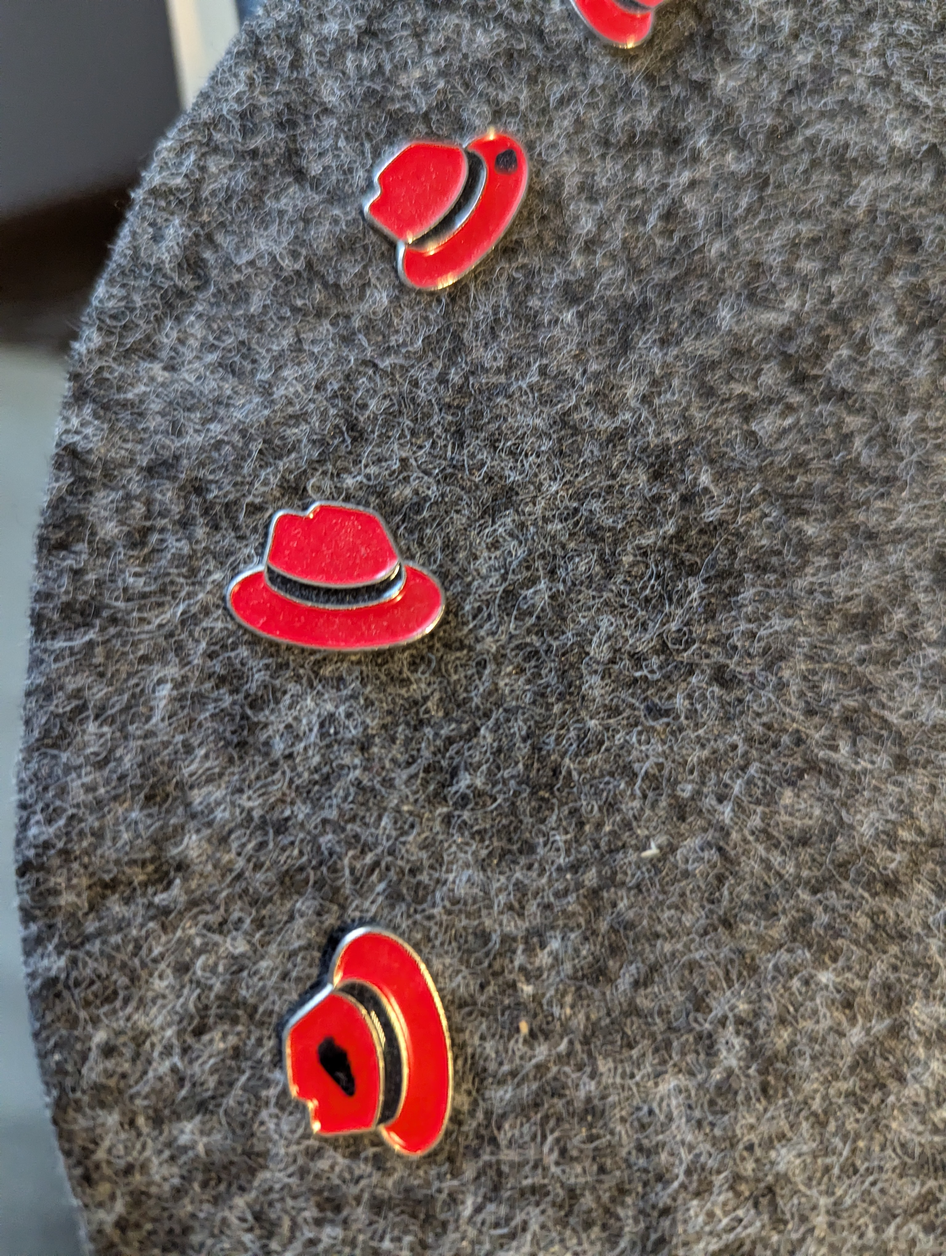Red-Hat: (258, 899, 477, 1205), (206, 482, 479, 683), (343, 107, 564, 313)
Scratch: (303, 1025, 385, 1104), (479, 137, 536, 181)
